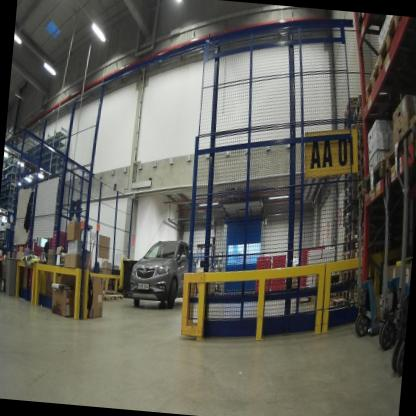forklift: (61, 193, 103, 283), (186, 230, 218, 306)
pallet: (363, 61, 416, 114), (373, 16, 416, 66), (377, 123, 410, 188), (363, 157, 387, 201), (291, 288, 328, 315), (406, 82, 416, 150), (97, 289, 124, 306), (341, 197, 359, 221), (350, 95, 363, 124), (342, 190, 358, 211), (353, 165, 366, 190), (339, 250, 357, 267), (340, 213, 358, 230), (341, 163, 356, 183), (341, 238, 359, 254), (342, 110, 355, 130), (354, 109, 364, 134), (343, 179, 356, 198), (343, 230, 358, 246), (352, 125, 364, 145), (344, 96, 356, 116), (338, 290, 356, 303), (355, 144, 366, 165), (329, 297, 345, 311), (339, 269, 357, 279), (357, 134, 367, 151), (344, 223, 356, 236)
pallet_truck: (374, 128, 416, 381), (363, 164, 415, 359), (343, 190, 390, 347)
